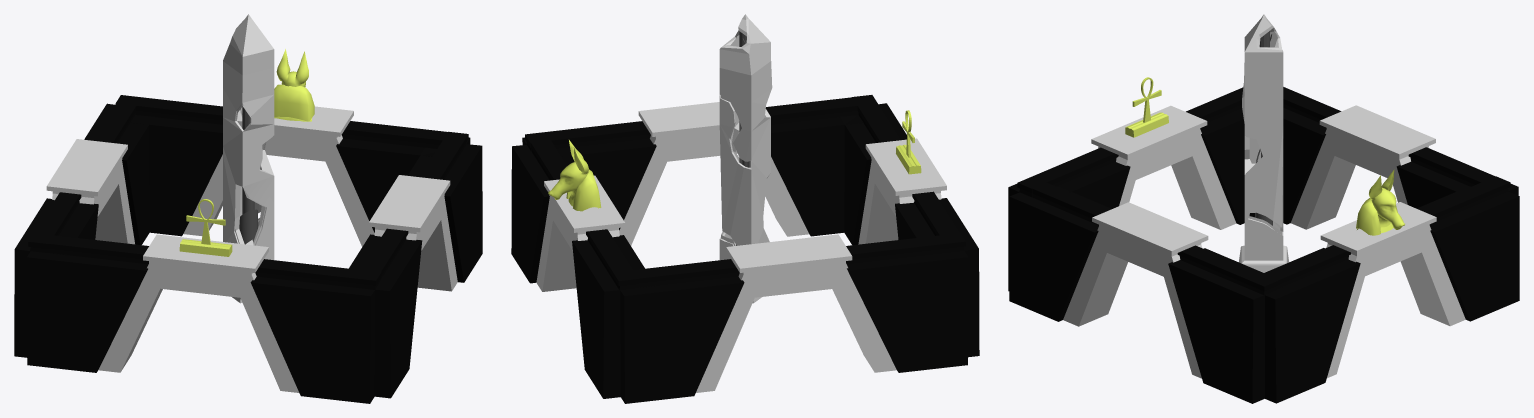
The model's file is Tombs obelisk.FBX.
The picture shows the model from 3 angles, left to right: view 1: azimuth 30°, elevation 25°; view 2: azimuth 150°, elevation 25°; view 3: azimuth 270°, elevation 25°; orthographic projection. The views are drawn at different scales.
Parts seen in each view (by area): view 1: TombEntrances, Obelisk, AnubisHead, AnkhLandmark, Antenna; view 2: TombEntrances, Obelisk, AnubisHead, AnkhLandmark; view 3: TombEntrances, Obelisk, AnubisHead, AnkhLandmark.
Part boxes in pixels (x1=…): TombEntrances: x1=14, y1=95, x2=482, y2=403; Obelisk: x1=223, y1=14, x2=274, y2=303; AnubisHead: x1=274, y1=49, x2=314, y2=121; AnkhLandmark: x1=179, y1=199, x2=232, y2=256; Antenna: x1=239, y1=106, x2=257, y2=244; TombEntrances: x1=511, y1=95, x2=979, y2=403; Obelisk: x1=719, y1=14, x2=772, y2=303; AnubisHead: x1=548, y1=140, x2=601, y2=211; AnkhLandmark: x1=896, y1=110, x2=921, y2=174; TombEntrances: x1=1008, y1=87, x2=1519, y2=403; Obelisk: x1=1239, y1=14, x2=1288, y2=272; AnubisHead: x1=1356, y1=169, x2=1404, y2=235; AnkhLandmark: x1=1125, y1=77, x2=1168, y2=137.
Size of the model in its own units: 1739 by 1059 by 1739.
